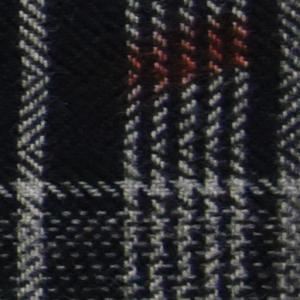Stain: (96, 15, 273, 98)
